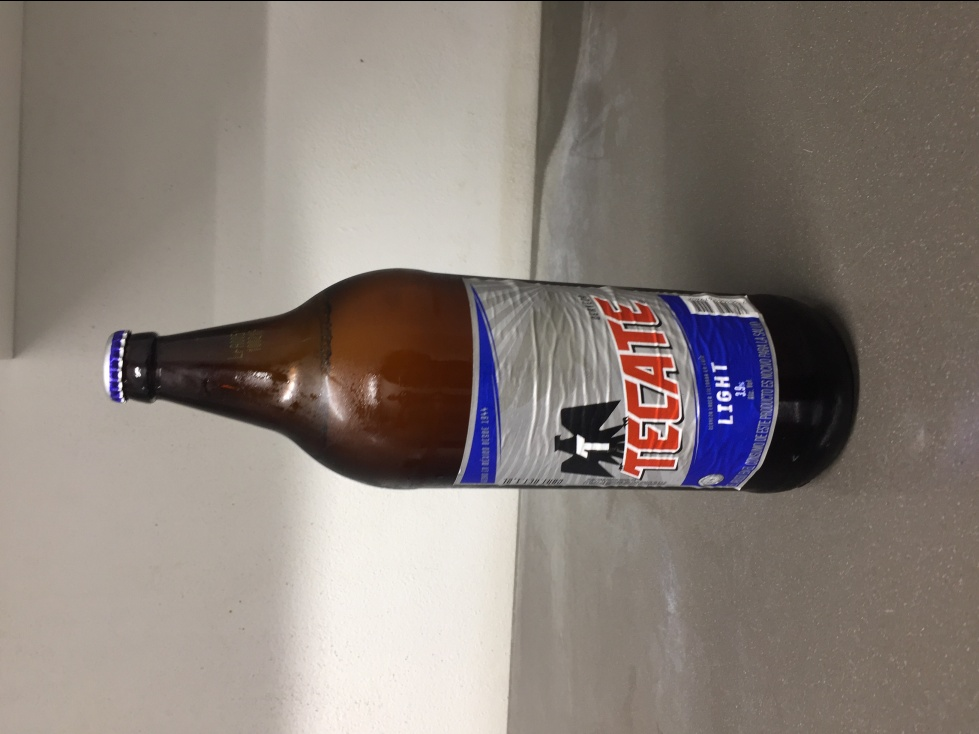tecateC: (103, 265, 862, 492)
